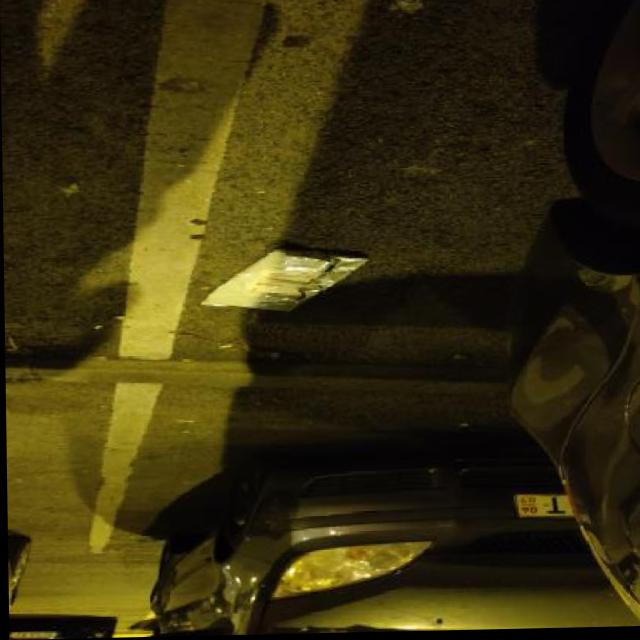plastic: (199, 248, 369, 314)
